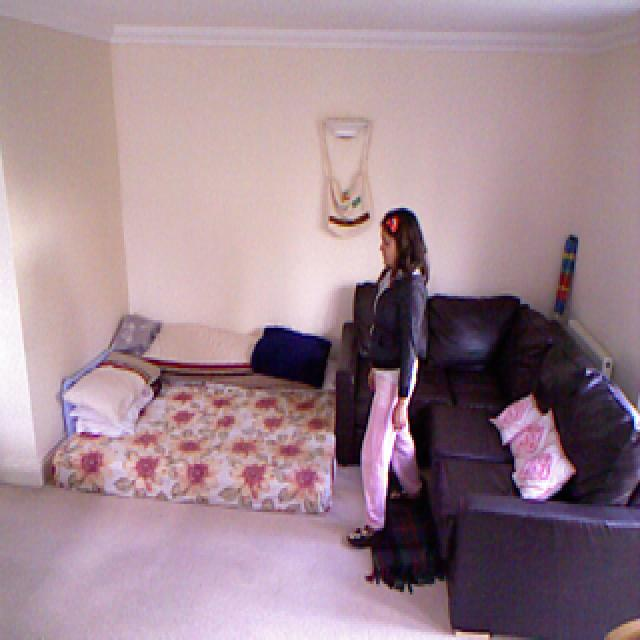standing: (351, 192, 436, 554)
